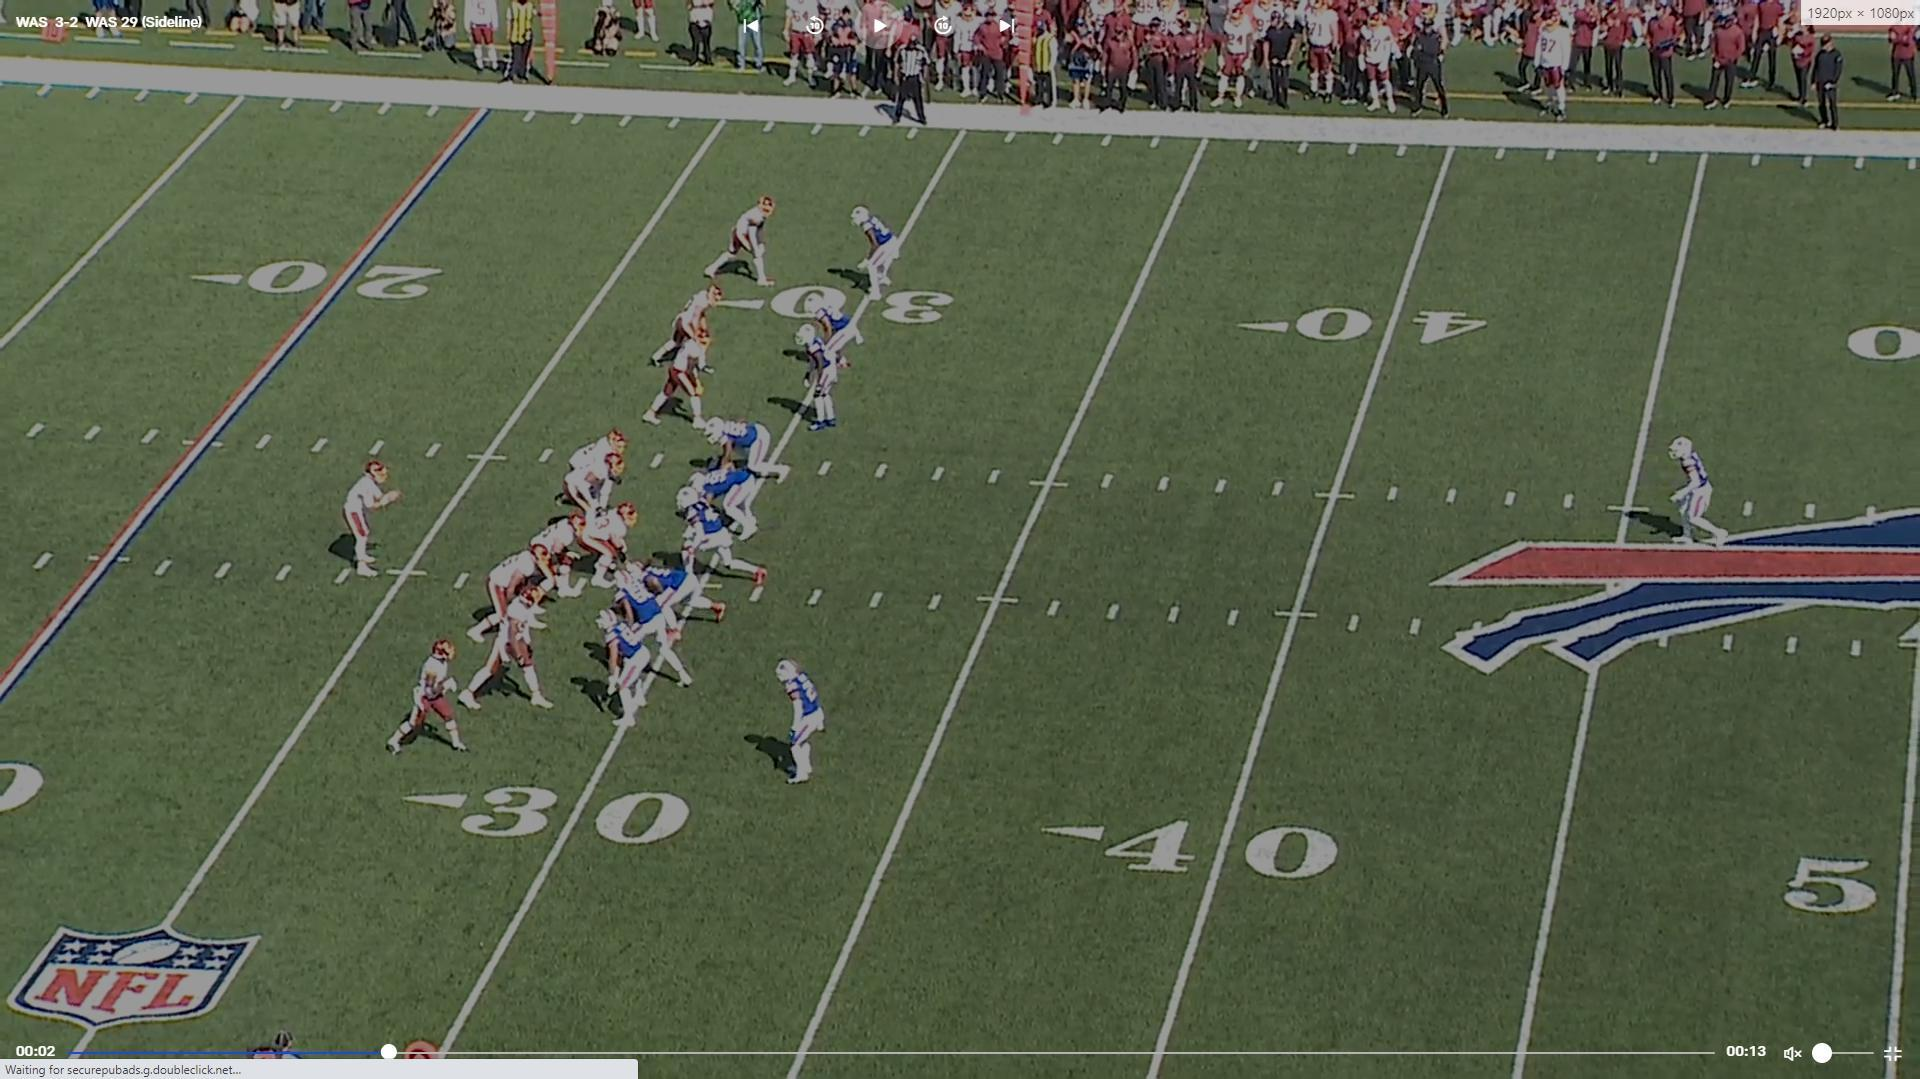player: (467, 585, 553, 711), (387, 636, 473, 760), (612, 573, 696, 693), (678, 486, 772, 591), (471, 545, 556, 647), (330, 457, 400, 580), (619, 562, 728, 636), (704, 192, 785, 291), (595, 608, 656, 735), (779, 657, 832, 791), (647, 281, 721, 370), (644, 339, 713, 432), (705, 417, 794, 488), (1668, 434, 1724, 545), (575, 502, 645, 588), (527, 511, 586, 605), (693, 466, 765, 543), (797, 326, 845, 436), (850, 203, 898, 302), (558, 454, 627, 510), (560, 427, 633, 479), (814, 305, 862, 382)
ref: (885, 34, 936, 130)
